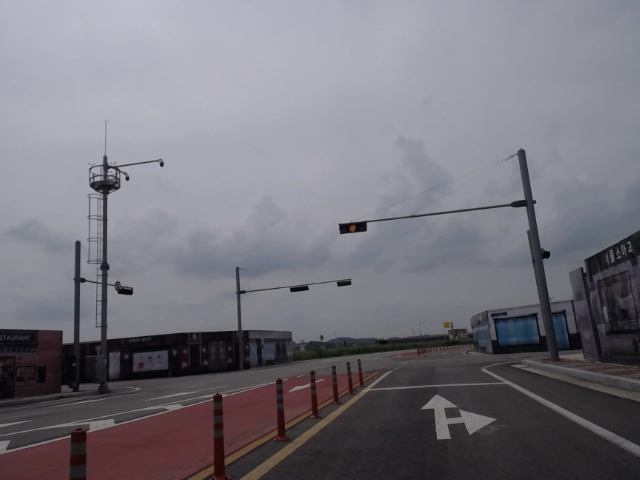orange_3: (340, 221, 367, 234)
